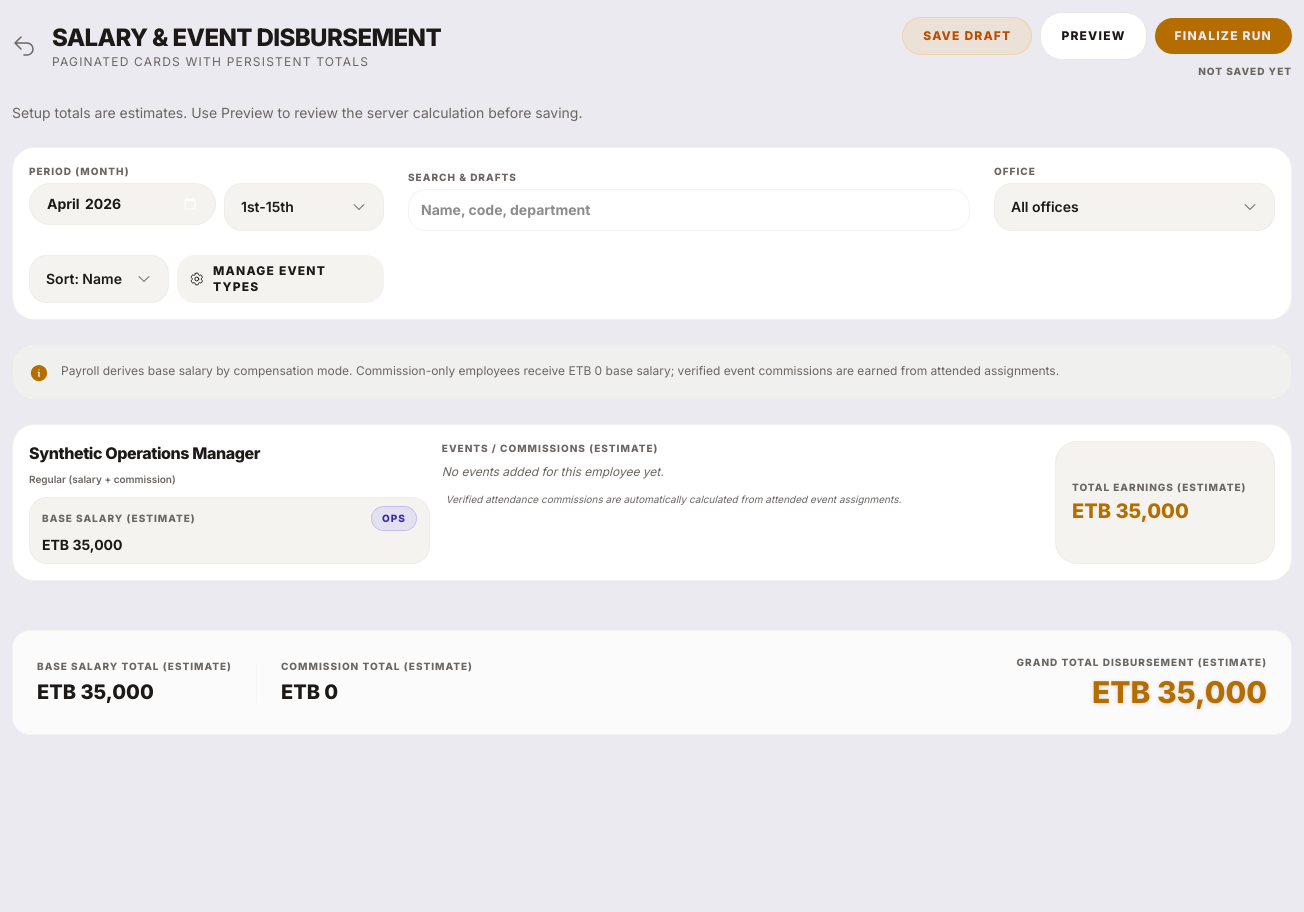
Test case: run payroll recovery › allows a known busy publication to be retried deliberately, then waits for navigation
Step 1. Click the button "Finalize Run" → (1223, 36), box [1155,18,1292,54]
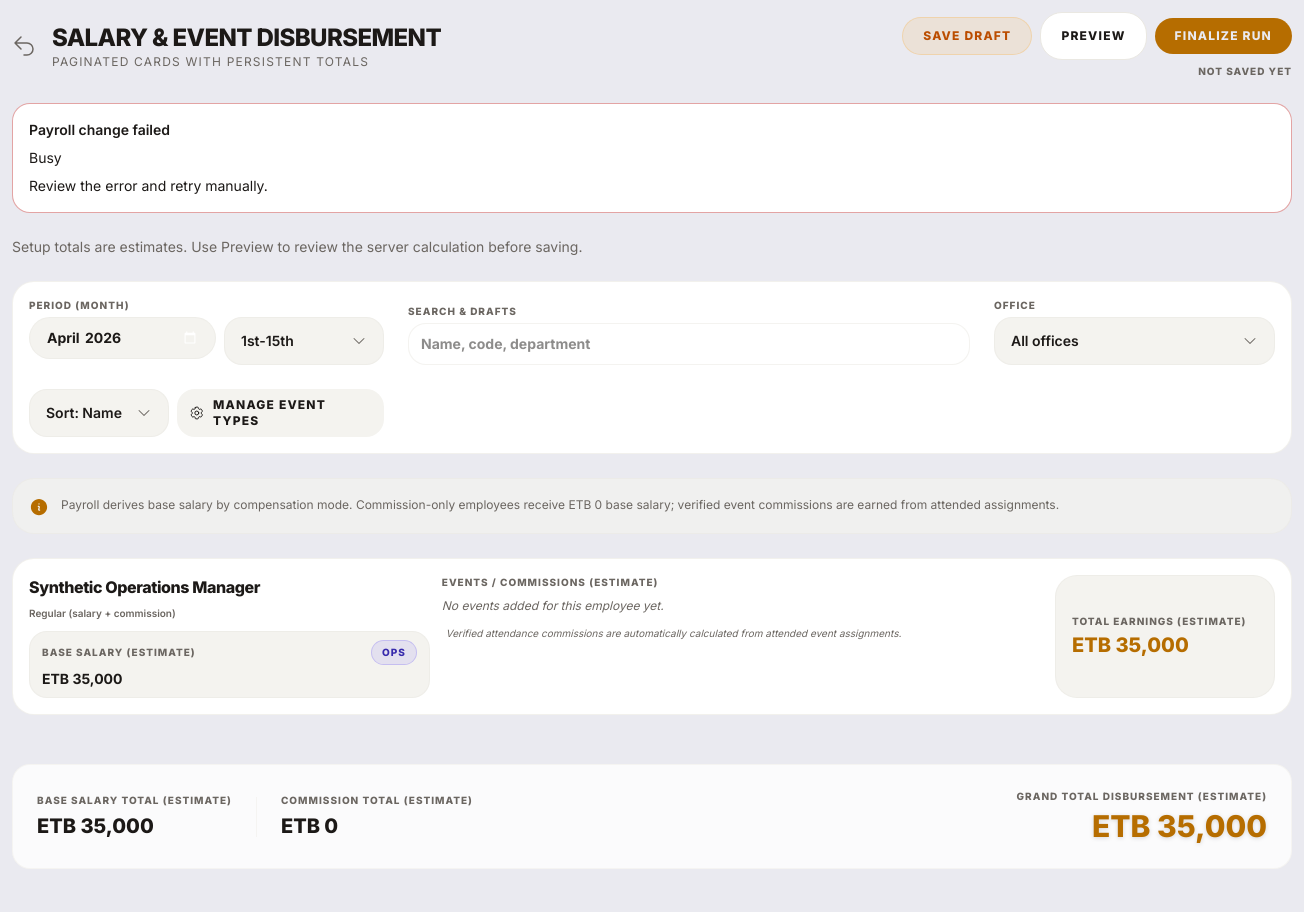
Result: the message shows "retry manually" at [29,177,268,194]
Step 2. Click the button "Finalize Run" → (1223, 36), box [1155,18,1292,54]
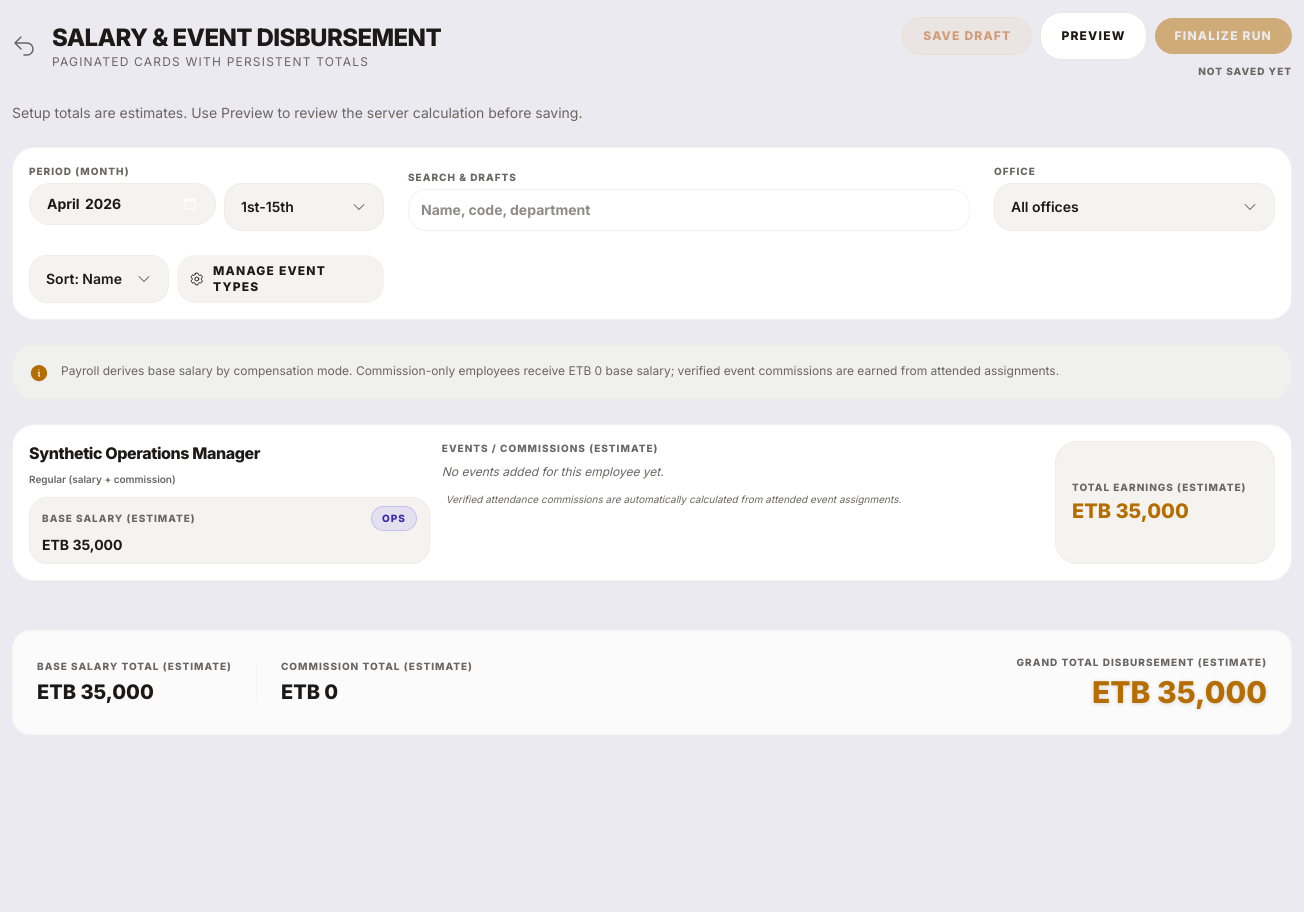
Result: the button "Save Draft" is disabled at [902,17,1032,55]
